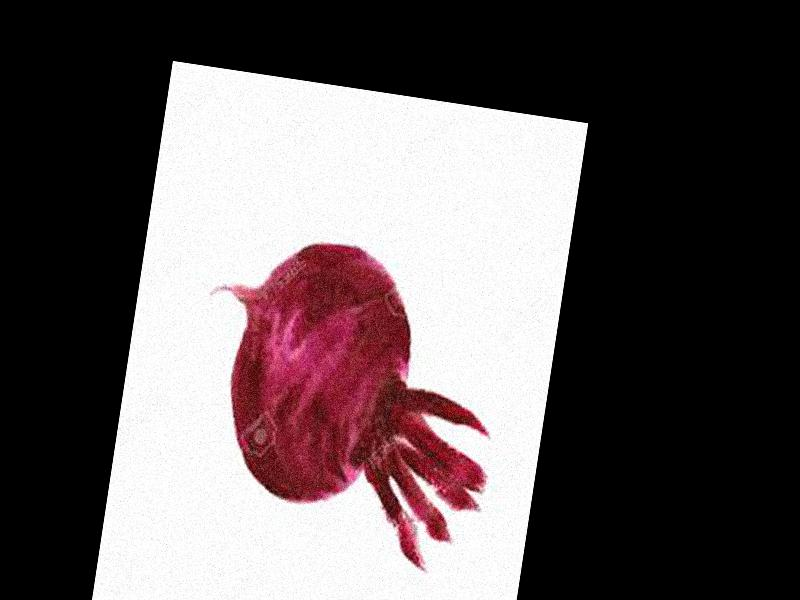Beet: (172, 223, 517, 577)
